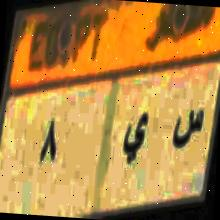8: (36, 110, 62, 174)
seen: (170, 100, 206, 157)
yaa: (120, 108, 148, 168)
